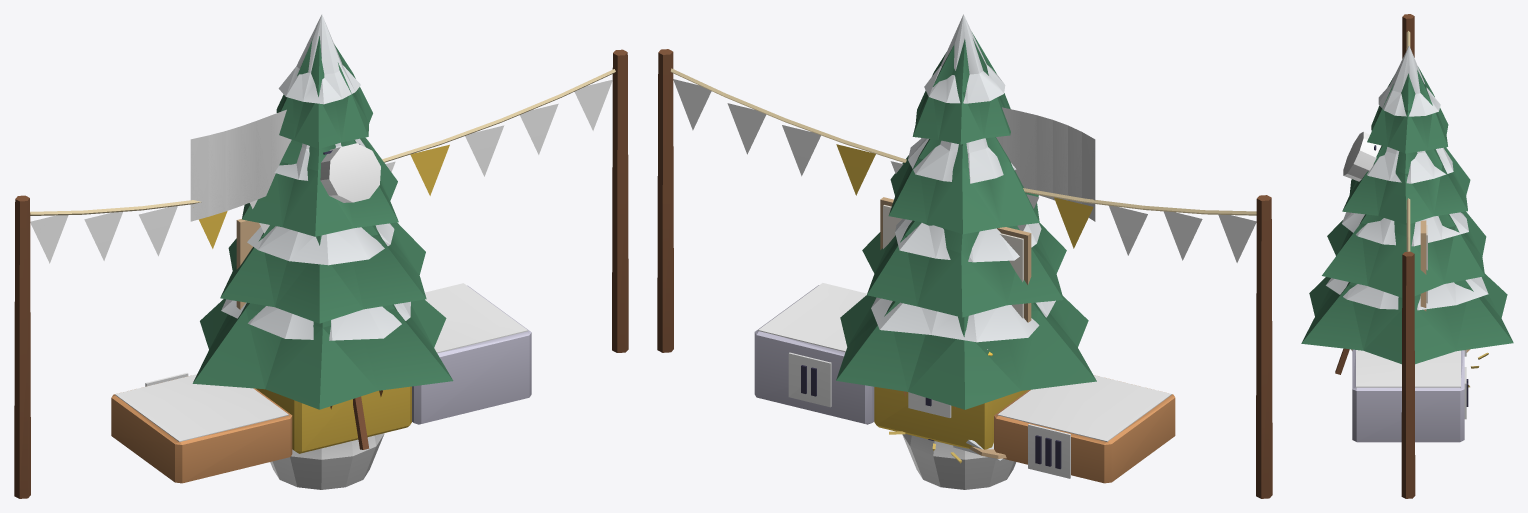
File: props_minigame.glb
3 renders of one model, left to right at view 1: azimuth 30°, elevation 25°; view 2: azimuth 150°, elevation 25°; view 3: azimuth 270°, elevation 25°, orthographic. The views are drawn at different scales.
Parts seen in each view (by area): view 1: snowpine__c_4f8f6a, snowpine__c_f4f8fb, podium__c_ffffff, bunting__c_8a5a3c, podium__c_e8a46a, flag__tint, podium__c_d9d6ea, podium__c_f2c94c, bunting__tint, buoy__tint, stagelight__tint, bunting__c_e2cfa4 (+3 smaller); view 2: snowpine__c_4f8f6a, podium__c_ffffff, snowpine__c_f4f8fb, bunting__c_8a5a3c, flag__tint, podium__c_e8a46a, podium__c_d9d6ea, podium__c_f2c94c, bunting__tint, buoy__tint, bunting__c_e2cfa4, bunting__c_f2c94c (+4 smaller); view 3: snowpine__c_4f8f6a, snowpine__c_f4f8fb, podium__c_d9d6ea, bunting__c_8a5a3c, podium__c_ffffff, stagelight__tint, easel__c_dcb98f, bunting__c_e2cfa4.
Part boxes in pixels (x1,y1,x2,y2): snowpine__c_4f8f6a: [192, 36, 453, 409]; snowpine__c_f4f8fb: [221, 14, 410, 340]; podium__c_ffffff: [115, 283, 527, 441]; bunting__c_8a5a3c: [14, 49, 628, 498]; podium__c_e8a46a: [111, 388, 292, 483]; flag__tint: [190, 109, 291, 221]; podium__c_d9d6ea: [412, 285, 531, 424]; podium__c_f2c94c: [256, 386, 411, 453]; bunting__tint: [30, 79, 612, 263]; buoy__tint: [270, 433, 384, 489]; stagelight__tint: [320, 143, 380, 202]; bunting__c_e2cfa4: [30, 69, 615, 215]; snowpine__c_4f8f6a: [836, 32, 1096, 409]; podium__c_ffffff: [758, 283, 1171, 478]; snowpine__c_f4f8fb: [871, 14, 1055, 460]; bunting__c_8a5a3c: [657, 49, 1272, 498]; flag__tint: [996, 107, 1095, 221]; podium__c_e8a46a: [994, 389, 1175, 483]; podium__c_d9d6ea: [754, 285, 874, 424]; podium__c_f2c94c: [874, 352, 1028, 449]; bunting__tint: [673, 79, 1256, 262]; buoy__tint: [902, 434, 1016, 489]; bunting__c_e2cfa4: [670, 68, 1256, 215]; bunting__c_f2c94c: [836, 144, 1093, 248]; snowpine__c_4f8f6a: [1301, 67, 1513, 364]; snowpine__c_f4f8fb: [1326, 45, 1488, 310]; podium__c_d9d6ea: [1352, 349, 1464, 442]; bunting__c_8a5a3c: [1401, 14, 1415, 498]; podium__c_ffffff: [1356, 350, 1466, 419]; stagelight__tint: [1343, 131, 1381, 181]; easel__c_dcb98f: [1420, 220, 1469, 352]; bunting__c_e2cfa4: [1406, 31, 1410, 251].
Bounding box in the file's own units: 6.14 × 4.41 × 2.27.
